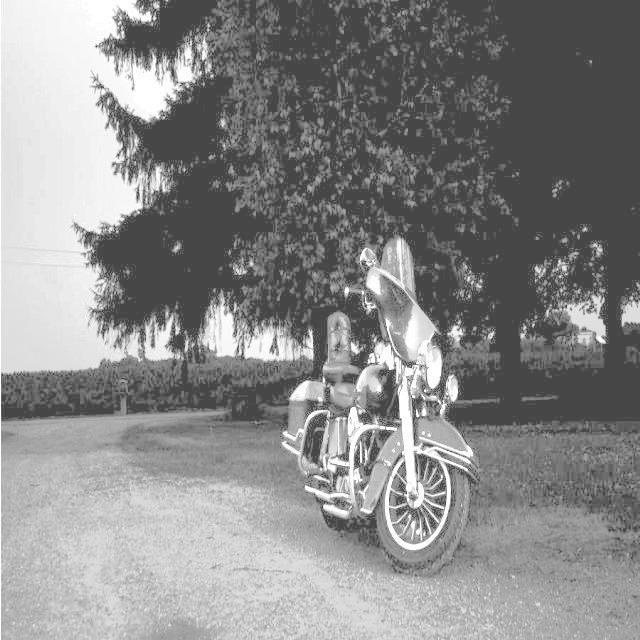Motorcycle: (246, 226, 496, 591)
